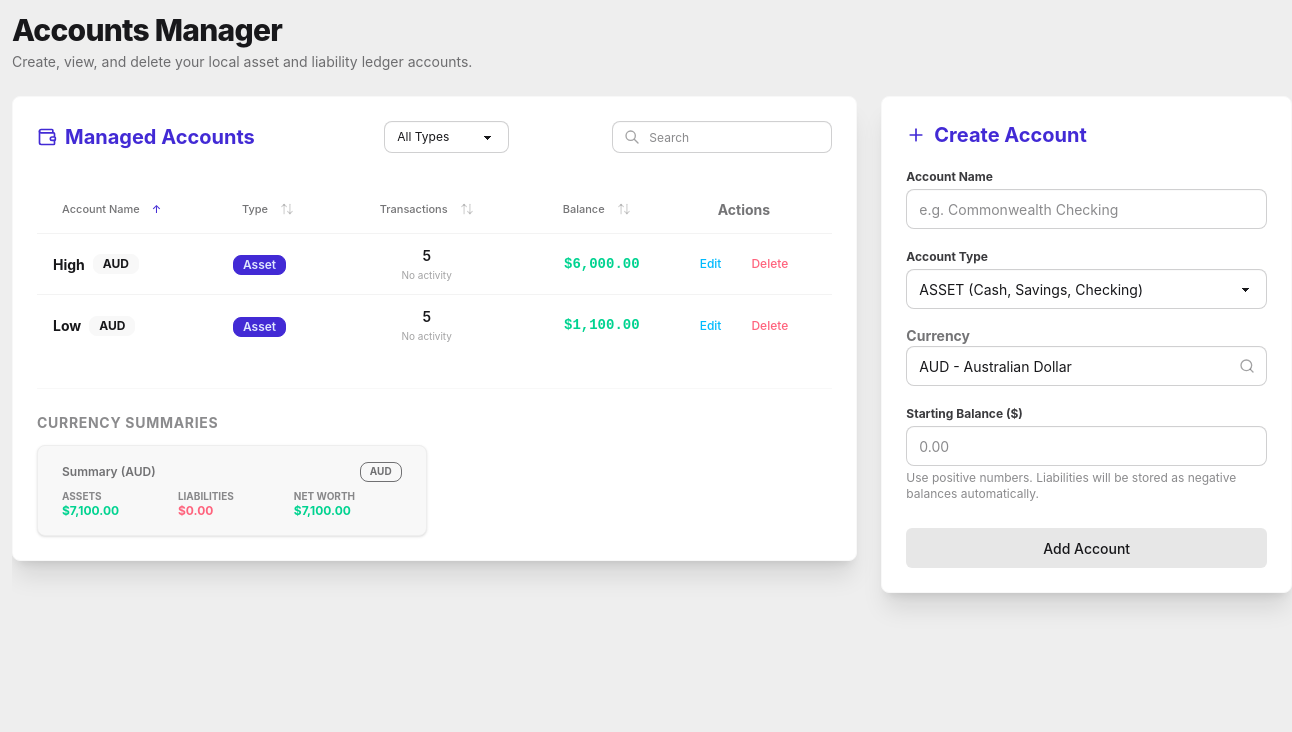
AccountsClient — sorting › sorts accounts by balance
The width and height of the screenshot is (1292, 732).
Click the button with aria-label "Sort by account balance" at (584, 209), box [529, 197, 640, 221]
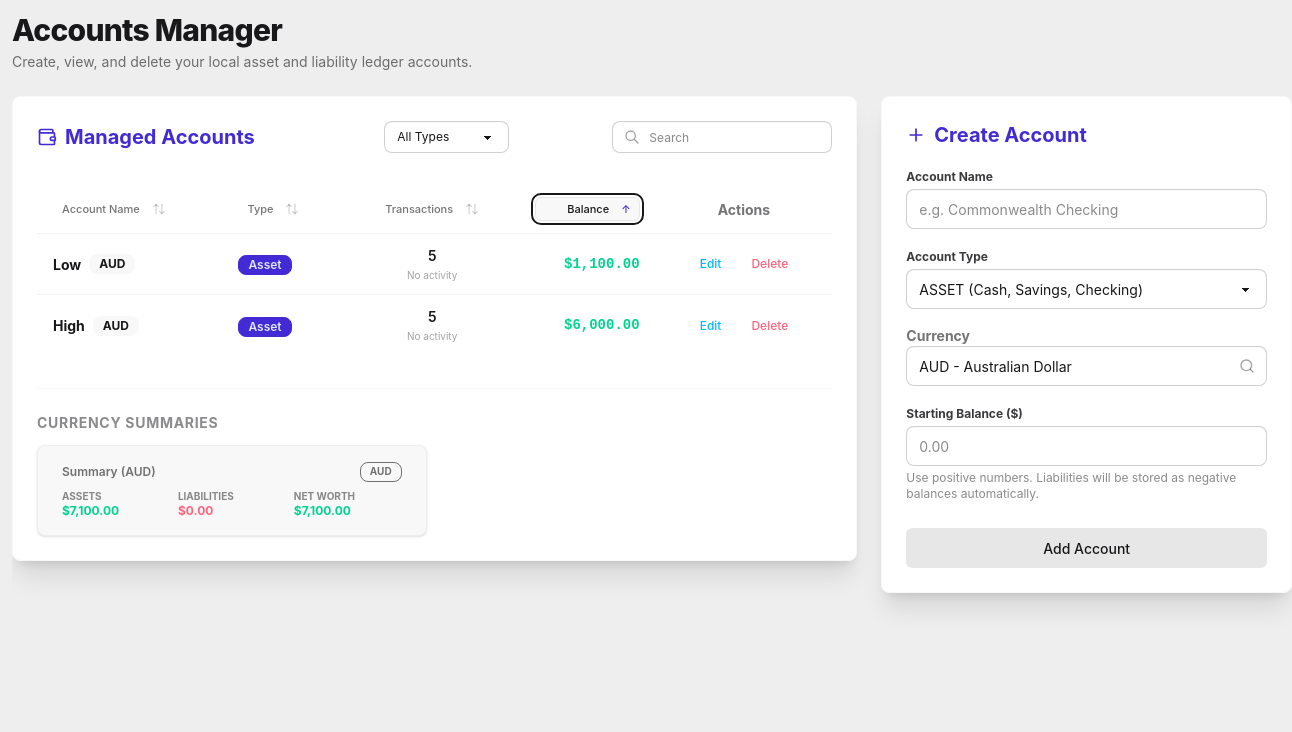
Now the button with aria-label "Sort by account balance" shows "↑", box [535, 197, 640, 221]
